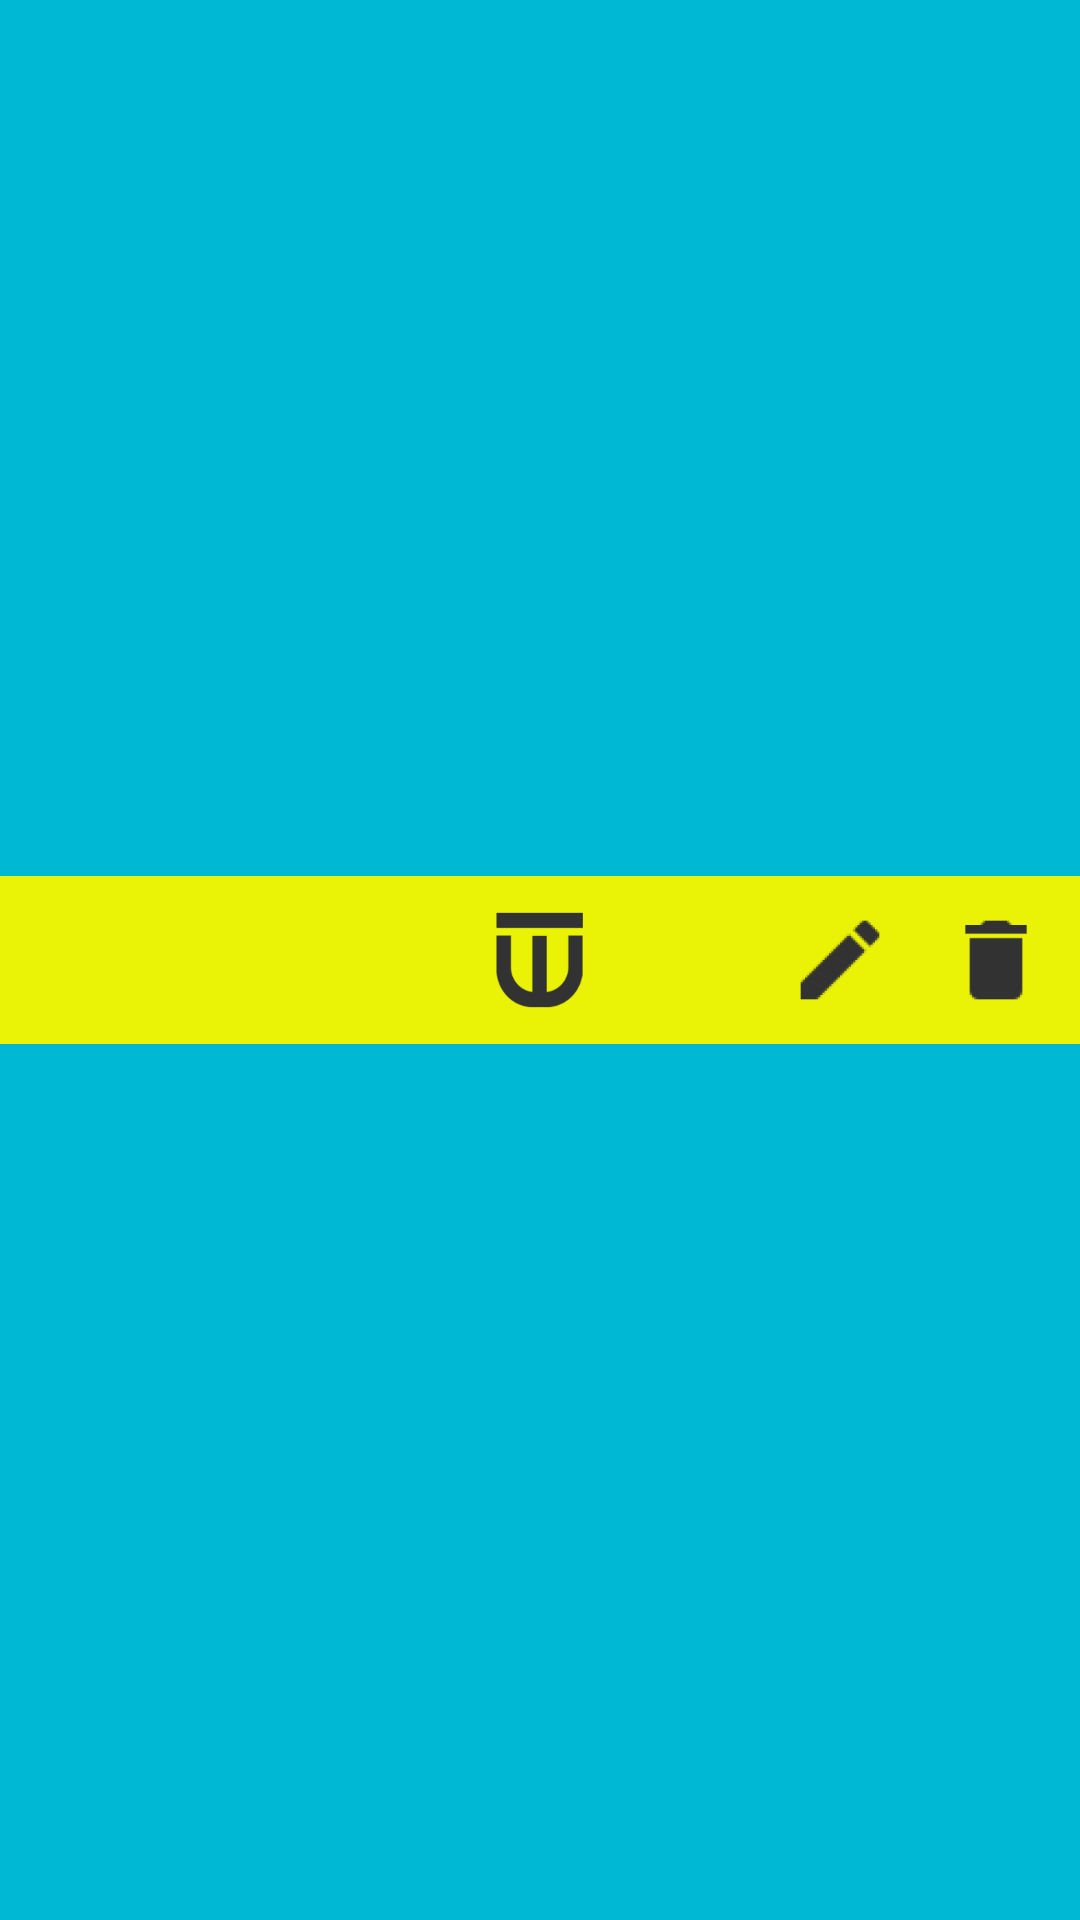

Point at icon controls on the screen. Image size 1080*1920, points as (x,y).
delete: (996,960)
edit: (840,960)
